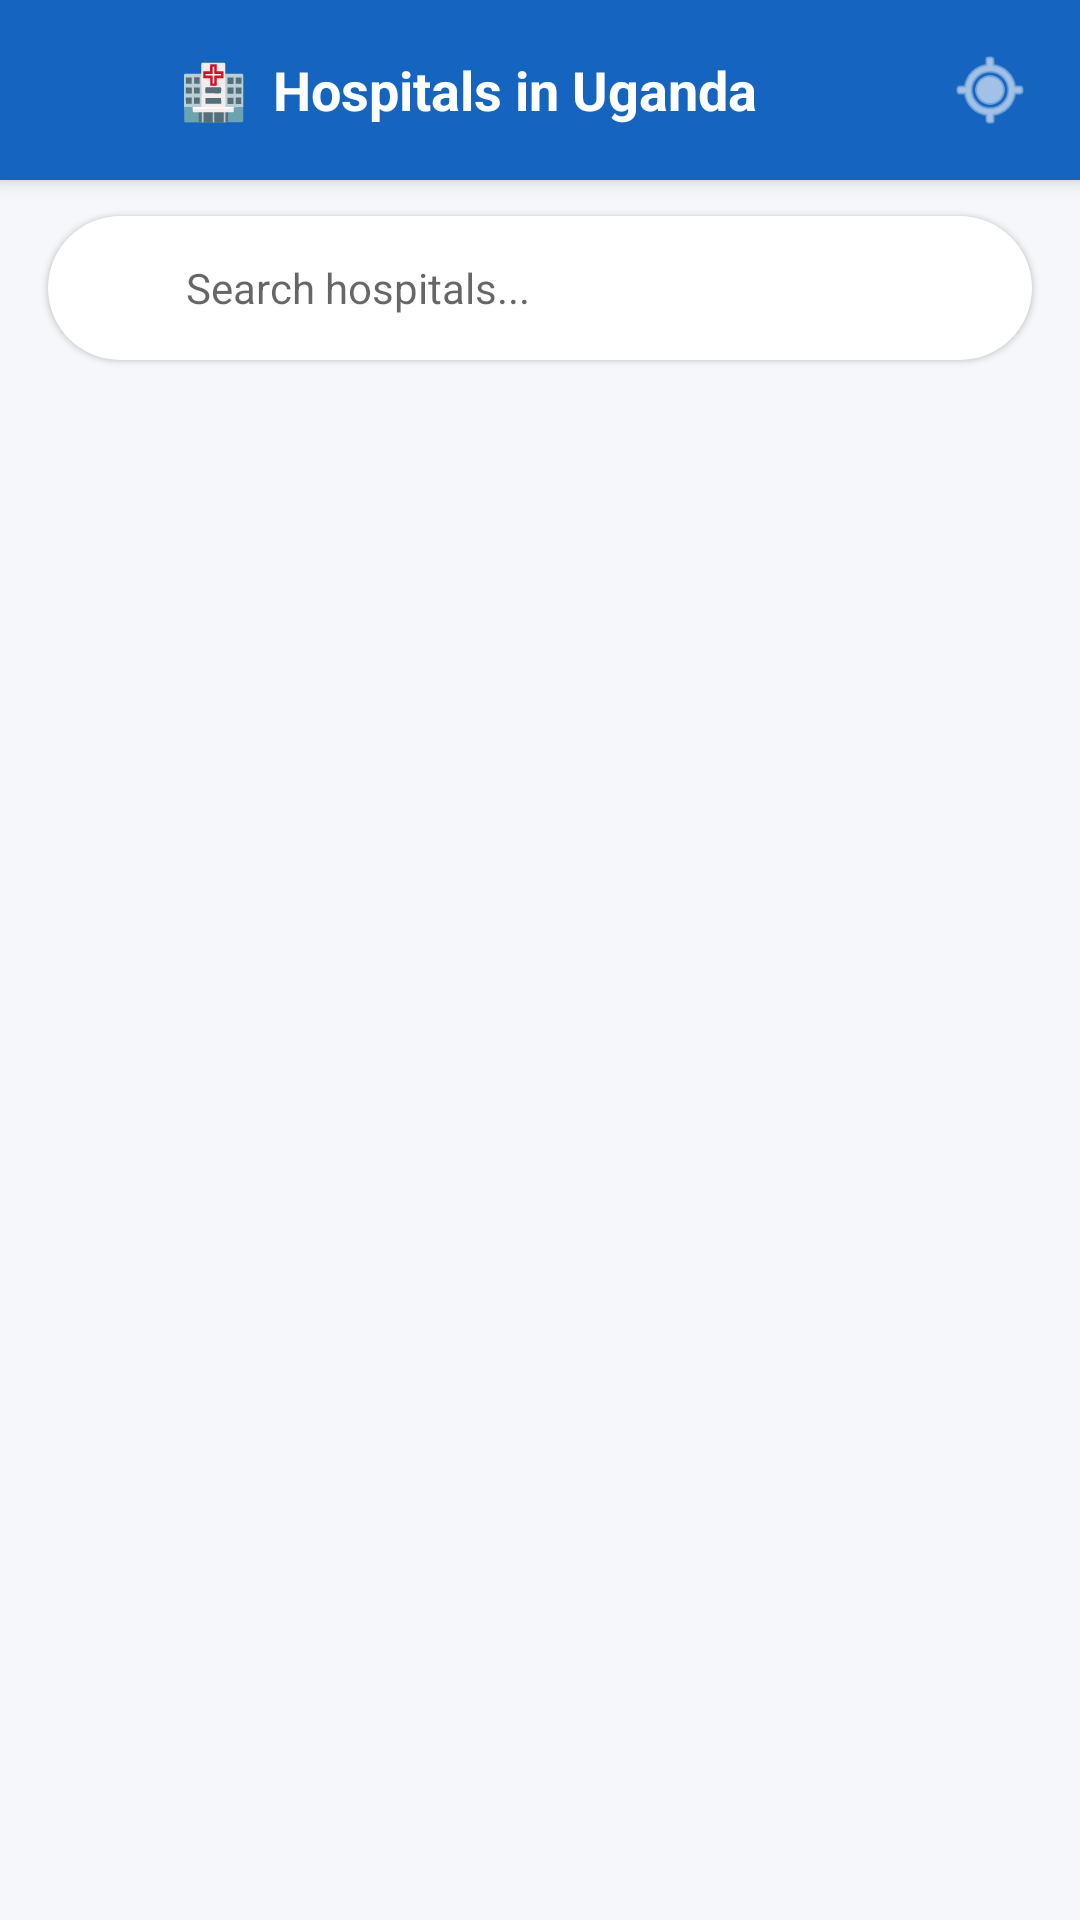

Icons on this 1080w x 1920h Android screen, each with its box as (x1, y1, x2, y2):
Find on map: (956, 56, 1024, 124)
